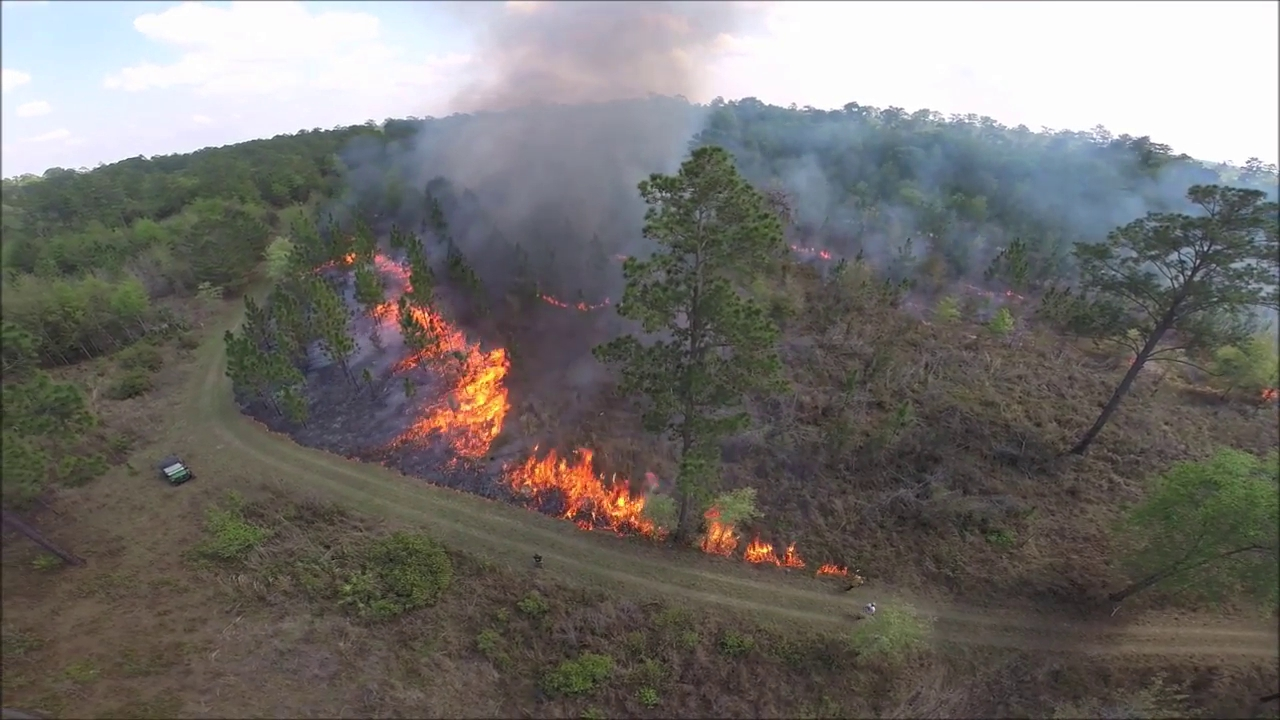forest_fire: (387, 306, 509, 458), (503, 448, 665, 537), (370, 253, 410, 330), (742, 536, 805, 568), (700, 507, 741, 554), (319, 257, 353, 267), (543, 295, 573, 306), (816, 564, 847, 574), (577, 301, 607, 308)
